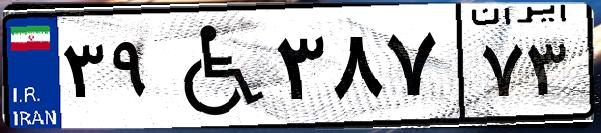3: (270, 28, 330, 110), (57, 26, 110, 100), (525, 38, 570, 115)
7: (385, 28, 445, 110), (475, 38, 525, 113)
8: (330, 28, 385, 110)
9: (110, 28, 158, 98)
ژ (معلولین و جانبازان): (158, 12, 270, 120)
